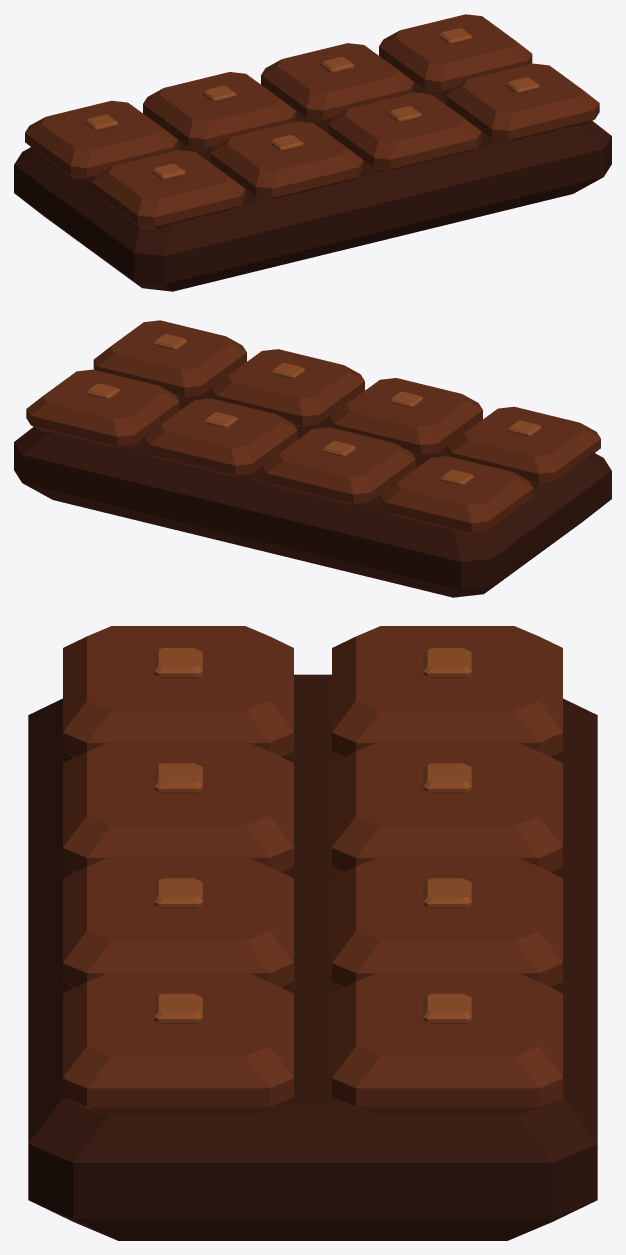
Rendered from Chocolate_Bar_Obstacle.obj.
3 views of the same model, one above another, from view 1: azimuth 30°, elevation 25°; view 2: azimuth 150°, elevation 25°; view 3: azimuth 270°, elevation 25° (orthographic). The views are drawn at different scales.
Visible parts, largest first — view 1: ChocolateBarBase, ChocolateSegment_1_2, ChocolateSegment_4_2, ChocolateSegment_2_2, ChocolateSegment_3_2, ChocolateSegment_1_1, ChocolateSegment_3_1, ChocolateSegment_2_1, ChocolateSegment_4_1, Stamp_2_1, Stamp_3_1, Stamp_1_1 (+5 smaller); view 2: ChocolateBarBase, ChocolateSegment_1_1, ChocolateSegment_4_1, ChocolateSegment_2_1, ChocolateSegment_3_1, ChocolateSegment_1_2, ChocolateSegment_3_2, ChocolateSegment_2_2, ChocolateSegment_4_2, Stamp_2_2, Stamp_3_2, Stamp_1_2 (+5 smaller); view 3: ChocolateBarBase, ChocolateSegment_4_1, ChocolateSegment_4_2, ChocolateSegment_2_1, ChocolateSegment_2_2, ChocolateSegment_1_1, ChocolateSegment_1_2, ChocolateSegment_3_1, ChocolateSegment_3_2, Stamp_2_1, Stamp_2_2, Stamp_3_1 (+5 smaller).
Part boxes in pixels (x1,y1,x2,y2): ChocolateBarBase: [14, 75, 611, 291]; ChocolateSegment_1_2: [92, 150, 245, 229]; ChocolateSegment_4_2: [446, 63, 599, 141]; ChocolateSegment_2_2: [210, 121, 363, 199]; ChocolateSegment_3_2: [328, 92, 481, 170]; ChocolateSegment_1_1: [25, 100, 178, 178]; ChocolateSegment_3_1: [261, 43, 414, 120]; ChocolateSegment_2_1: [143, 72, 296, 149]; ChocolateSegment_4_1: [379, 14, 532, 92]; Stamp_2_1: [202, 85, 236, 102]; Stamp_3_1: [320, 57, 354, 73]; Stamp_1_1: [84, 114, 118, 131]; ChocolateBarBase: [14, 381, 611, 597]; ChocolateSegment_1_1: [380, 456, 533, 535]; ChocolateSegment_4_1: [26, 369, 179, 447]; ChocolateSegment_2_1: [262, 427, 415, 505]; ChocolateSegment_3_1: [144, 398, 297, 476]; ChocolateSegment_1_2: [447, 406, 600, 484]; ChocolateSegment_3_2: [211, 349, 364, 426]; ChocolateSegment_2_2: [329, 378, 482, 455]; ChocolateSegment_4_2: [93, 320, 246, 398]; Stamp_2_2: [389, 391, 423, 408]; Stamp_3_2: [271, 363, 305, 379]; Stamp_1_2: [507, 420, 541, 437]; ChocolateBarBase: [28, 674, 597, 1240]; ChocolateSegment_4_1: [332, 971, 562, 1115]; ChocolateSegment_4_2: [63, 971, 293, 1115]; ChocolateSegment_2_1: [332, 741, 562, 872]; ChocolateSegment_2_2: [63, 741, 293, 872]; ChocolateSegment_1_1: [332, 626, 562, 756]; ChocolateSegment_1_2: [63, 626, 293, 756]; ChocolateSegment_3_1: [332, 856, 562, 987]; ChocolateSegment_3_2: [63, 856, 293, 987]; Stamp_2_1: [423, 763, 471, 793]; Stamp_2_2: [154, 763, 202, 793]; Stamp_3_1: [423, 878, 471, 908].
Bounding box in the file's own units: 3.2 × 0.6235 × 1.65.
